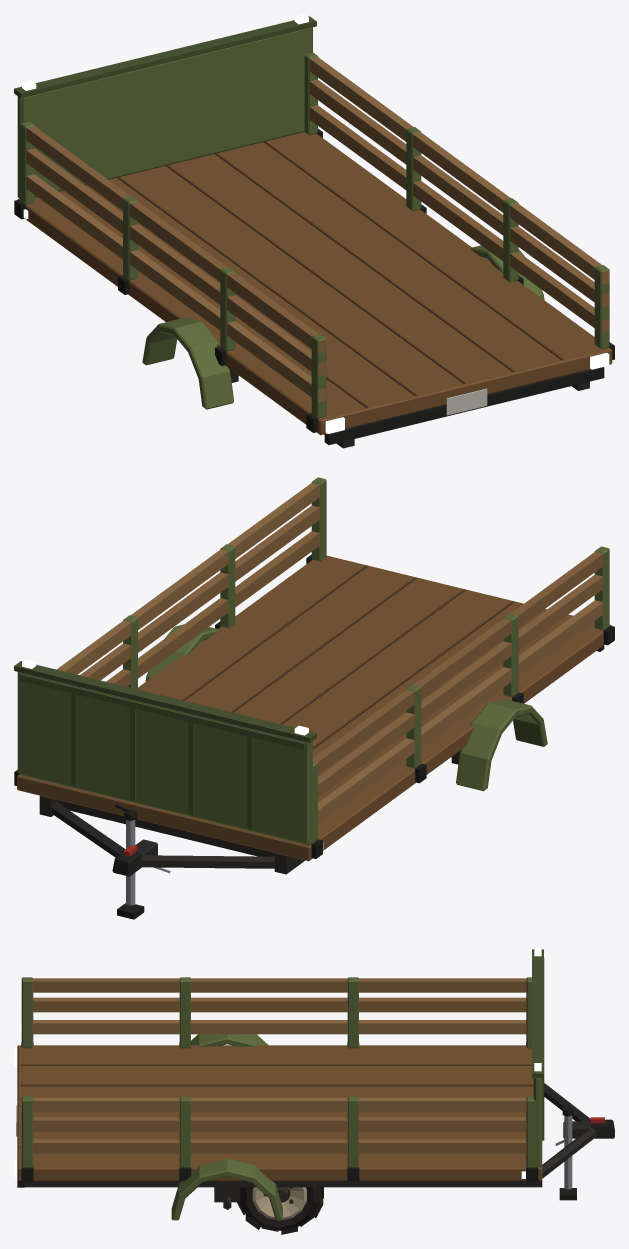
The model's file is RanchTrailer_LoggingRig.glb.
The picture shows the model from 3 angles, top to bottom: view 1: azimuth 30°, elevation 25°; view 2: azimuth 150°, elevation 25°; view 3: azimuth 270°, elevation 25°; orthographic projection. The views are drawn at different scales.
Parts seen in each view (by area): view 1: Bed, Body, Lights; view 2: Bed, Body, Hitch; view 3: Bed, Body, Wheel, Hitch.
Part boxes in pixels (x1,y1,x2,y2): Bed: (14, 16, 614, 435); Body: (142, 245, 604, 448); Lights: (22, 14, 609, 433); Bed: (14, 477, 614, 861); Body: (39, 624, 604, 874); Hitch: (51, 802, 274, 919); Bed: (17, 949, 544, 1181); Body: (16, 1034, 542, 1220); Wheel: (237, 1187, 323, 1234); Hitch: (542, 1083, 614, 1200).
Bounding box in the file's own units: 11.87 × 8.51 × 20.84.
